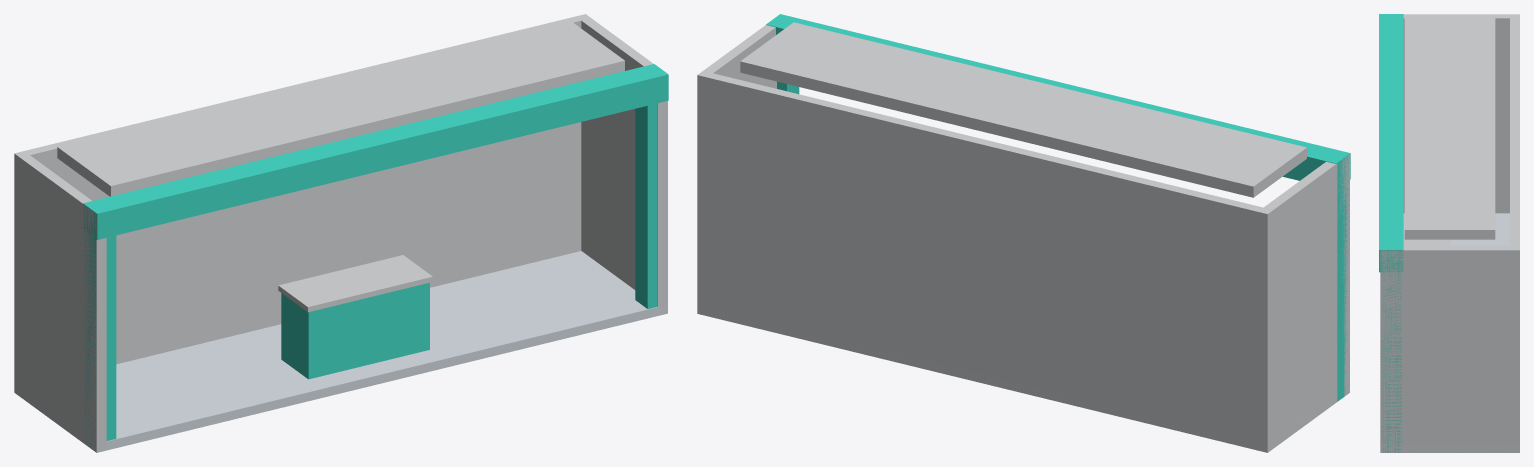
3 views of the same model, side by side, from view 1: azimuth 30°, elevation 25°; view 2: azimuth 150°, elevation 25°; view 3: azimuth 270°, elevation 25° (orthographic). The views are drawn at different scales.
Parts seen in each view (by area): view 1: Exhibition Booth Concept; view 2: Exhibition Booth Concept; view 3: Exhibition Booth Concept.
Boxes of the visible parts, box(x1,y1,x2,y2) form: Exhibition Booth Concept: box(14, 14, 668, 452); Exhibition Booth Concept: box(697, 14, 1350, 452); Exhibition Booth Concept: box(1379, 14, 1519, 452).
Size of the model in its own units: 8 by 3.34 by 2.01.
